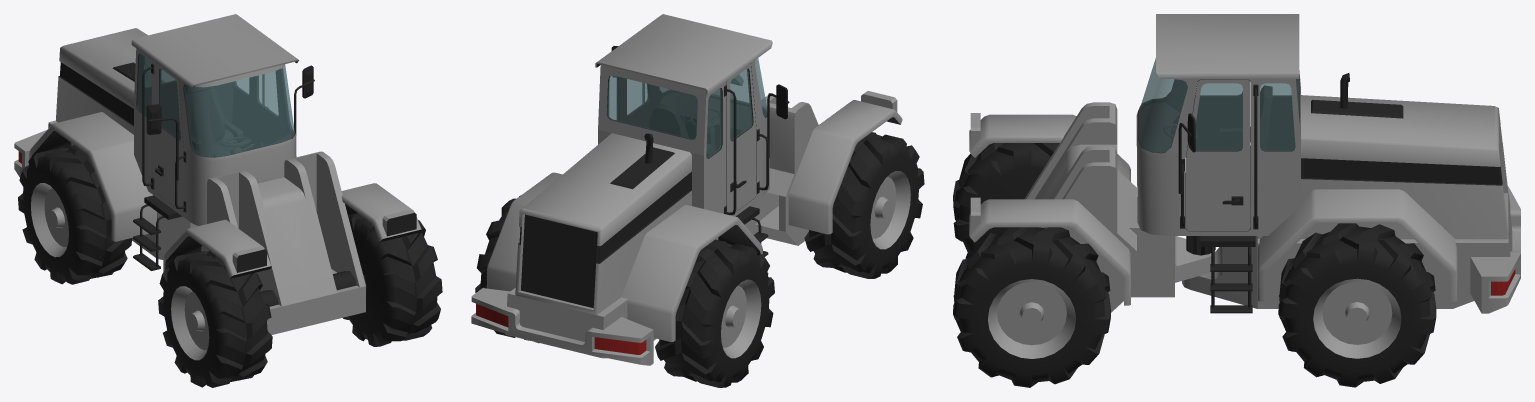
Rendered from Construction2.FBX.
The picture shows the model from 3 angles, left to right: view 1: azimuth 30°, elevation 25°; view 2: azimuth 150°, elevation 25°; view 3: azimuth 270°, elevation 25°; orthographic projection. The views are drawn at different scales.
Parts seen in each view (by area): view 1: Construction2_Front, Construction2, Construction2_Cabin_Bot, Construction2_Wheel_FR, Construction2_Wheel_RR, Construction2_Wheel_FL, Construction2_Cabin_Top, Construction2_Window_F, Construction2_Window_Tessellate_F, Construction2_Front_Mudguard_R, Construction2_Front_Mudguard_L, Construction2_Door_R (+6 smaller); view 2: Construction2, Construction2_Wheel_RR, Construction2_Wheel_FR, Construction2_Cabin_Bot, Construction2_Cabin_Top, Construction2_Front_Mudguard_R, Construction2_Front, Construction2_Window_R, Construction2_Window_Tessellate_R, Construction2_Door_R, Construction2_Window_FR, Construction2_Window_Tessellate_FR (+4 smaller); view 3: Construction2, Construction2_Wheel_RL, Construction2_Wheel_FL, Construction2_Cabin_Bot, Construction2_Front, Construction2_Cabin_Top, Construction2_Door_L, Construction2_Wheel_FR, Construction2_Front_Mudguard_L, Construction2_Front_Mudguard_R, Construction2_Window_FL, Construction2_Window_Tessellate_FL (+6 smaller).
Part boxes in pixels (box(x1,y1,x2,y2)): Construction2_Front: box(201, 151, 366, 334); Construction2: box(14, 28, 237, 259); Construction2_Cabin_Bot: box(134, 62, 314, 225); Construction2_Wheel_FR: box(158, 250, 272, 387); Construction2_Wheel_RR: box(18, 145, 131, 284); Construction2_Wheel_FL: box(343, 213, 442, 346); Construction2_Cabin_Top: box(131, 14, 298, 105); Construction2_Window_F: box(184, 65, 294, 157); Construction2_Window_Tessellate_F: box(184, 65, 294, 157); Construction2_Front_Mudguard_R: box(163, 219, 271, 278); Construction2_Front_Mudguard_L: box(341, 183, 421, 242); Construction2_Door_R: box(155, 63, 183, 211); Construction2: box(471, 133, 762, 365); Construction2_Wheel_RR: box(655, 239, 774, 387); Construction2_Wheel_FR: box(804, 132, 924, 278); Construction2_Cabin_Bot: box(598, 46, 789, 216); Construction2_Cabin_Top: box(595, 14, 772, 121); Construction2_Front_Mudguard_R: box(788, 91, 902, 234); Construction2_Front: box(713, 89, 818, 245); Construction2_Window_R: box(607, 76, 697, 139); Construction2_Window_Tessellate_R: box(607, 76, 697, 138); Construction2_Door_R: box(726, 63, 756, 215); Construction2_Window_FR: box(730, 69, 752, 140); Construction2_Window_Tessellate_FR: box(730, 69, 752, 140); Construction2: box(1182, 73, 1520, 313); Construction2_Wheel_RL: box(1278, 223, 1436, 387); Construction2_Wheel_FL: box(953, 227, 1110, 387); Construction2_Cabin_Bot: box(1136, 70, 1300, 235); Construction2_Front: box(1024, 102, 1215, 312); Construction2_Cabin_Top: box(1156, 14, 1299, 113); Construction2_Door_L: box(1186, 79, 1250, 230); Construction2_Wheel_FR: box(953, 143, 1059, 258); Construction2_Front_Mudguard_L: box(969, 197, 1130, 305); Construction2_Front_Mudguard_R: box(969, 113, 1130, 181); Construction2_Window_FL: box(1196, 83, 1242, 150); Construction2_Window_Tessellate_FL: box(1196, 83, 1242, 150).
Bounding box in the file's own units: 299 × 320 × 577.
